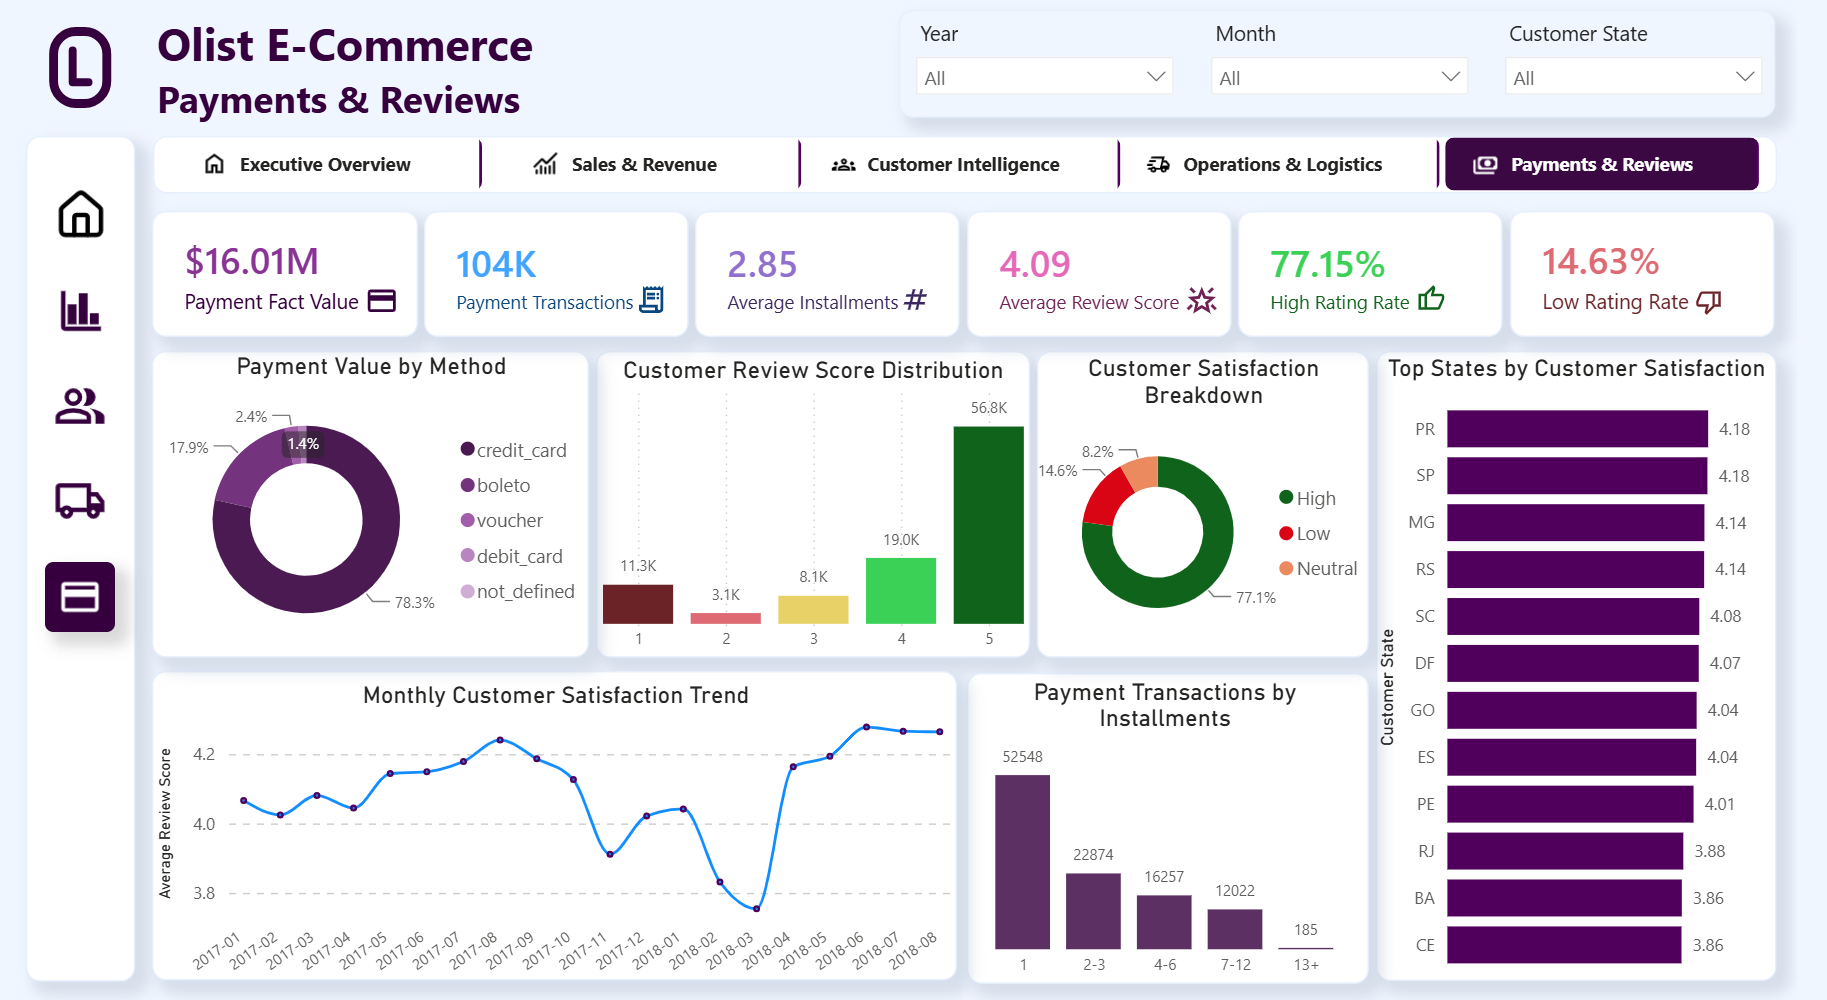

The page's visual inventory and layout, read from the dashboard file:
{"tool":"powerbi","page":{"name":"Payments & Reviews","canvas":[1280,720],"ordinal":4},"visuals":[{"type":"image","box":[15.9,5.9,76.5,85.1],"z":0,"group":"g1"},{"type":"shape","box":[15.3,96.8,77.7,603.7],"z":0},{"type":"image","box":[19.9,11.6,68.4,71.9],"z":1000,"group":"g1"},{"type":"shape","box":[421.9,250.7,310,218.9],"z":1000},{"type":"shape","box":[979.5,250.7,286.1,450],"z":2000},{"type":"shape","box":[686.9,480.7,287.3,221.9],"z":3000},{"type":"shape","box":[105.2,479.4,574.7,221.3],"z":4000},{"type":"shape","box":[737.4,250.7,237.2,218.9],"z":5000},{"type":"shape","box":[105.2,250.7,311.8,218.9],"z":6000},{"type":"shape","box":[638.3,7.3,626.1,77],"z":7000},{"type":"textbox","box":[63.6,3.7,368.1,90.5],"z":8000},{"type":"slicer","fields":{"Values":["dim_date.year"]},"box":[640.8,8.6,204.2,77],"z":9000},{"type":"slicer","fields":{"Values":["dim_date.month_name"]},"box":[851.2,8.6,204,77],"z":10000},{"type":"slicer","fields":{"Values":["dim_customer.Customer State"]},"box":[1061.4,8.6,204.2,77],"z":11000},{"type":"group","id":"g1","title":"Group 1","box":[15.9,5.9,76.5,85.1],"z":13000},{"type":"group","id":"g2","title":"Group 2","box":[105.2,150.4,1158.7,90.5],"z":14000},{"type":"actionButton","box":[29.3,128.6,50,50],"z":15000},{"type":"actionButton","box":[29.3,196.8,50,50],"z":16000},{"type":"actionButton","box":[317.4,102.3,30.2,30.2],"z":17000},{"type":"cardVisual","fields":{"Data":["_Measures.Payment Fact Value"]},"box":[105.2,150.4,189.5,90.5],"z":17000,"group":"g2"},{"type":"cardVisual","fields":{"Data":["_Measures.Payment Transactions"]},"box":[299.6,150.4,189,90],"z":18000,"group":"g2"},{"type":"actionButton","box":[28.9,265,50,50],"z":18000},{"type":"cardVisual","fields":{"Data":["_Measures.Average Installments"]},"box":[493.4,150.4,189,90.5],"z":19000,"group":"g2"},{"type":"actionButton","box":[28.9,333.2,50,50],"z":19000},{"type":"cardVisual","fields":{"Data":["_Measures.Average Review Score"]},"box":[687.2,150.4,189,90],"z":20000,"group":"g2"},{"type":"actionButton","box":[28.9,401.3,50,50],"z":20000},{"type":"cardVisual","fields":{"Data":["_Measures.High Rating Rate"]},"box":[881.1,150.4,189,90],"z":21000,"group":"g2"},{"type":"cardVisual","fields":{"Data":["_Measures.Low Rating Rate"]},"box":[1074.9,150.4,189,90],"z":22000,"group":"g2"},{"type":"clusteredColumnChart","title":"Payment Transactions by Installments","fields":{"Category":["fact_payment.payment_installment_bucket"],"Y":["_Measures.Payment Transactions"]},"box":[687.2,480.6,286.1,221.3],"z":22000},{"type":"clusteredColumnChart","title":"Customer Review Score Distribution","fields":{"Category":["fact_order.latest_review_score"],"Y":["_Measures.Reviewed Orders"]},"box":[421.9,250.7,310.6,218.9],"z":23000},{"type":"image","box":[256.8,203,24.5,24.5],"z":24000},{"type":"image","box":[450,201.8,23.2,24.5],"z":25000},{"type":"image","box":[639.5,203,22,22],"z":26000},{"type":"image","box":[1206.9,205.4,19.6,19.6],"z":27000},{"type":"image","box":[842.5,203,24.5,24.5],"z":28000},{"type":"image","box":[1007.6,203,20.8,20.8],"z":29000},{"type":"pageNavigator","box":[105.7,96.8,1160.3,40.8],"z":30000},{"type":"lineChart","title":"Monthly Customer Satisfaction Trend","fields":{"Category":["dim_date.year_month"],"Y":["_Measures.Average Review Score"]},"box":[105.2,483,577.2,217.7],"z":37000},{"type":"donutChart","title":"Payment Value by Method","fields":{"Category":["fact_payment.Payment Type"],"Y":["_Measures.Payment Fact Value"]},"box":[106.4,249.5,310.6,222.6],"z":39001},{"type":"clusteredBarChart","title":"Top States by Customer Satisfaction","fields":{"Category":["dim_customer.Customer State"],"Y":["_Measures.Average Review Score"]},"box":[979.5,250.7,284.9,451.2],"z":39002},{"type":"donutChart","title":"Customer Satisfaction Breakdown","fields":{"Category":["fact_order.latest_review_score_group"],"Y":["_Measures.Reviewed Orders"]},"box":[737.4,250.7,238.5,218.9],"z":39003},{"type":"actionButton","box":[370.5,101.5,30.6,30.6],"z":39004},{"type":"actionButton","box":[134.5,101.5,30.6,30.6],"z":39005},{"type":"actionButton","box":[583.3,102.7,30.6,29.3],"z":39006},{"type":"actionButton","box":[809.5,102.7,29.3,29.3],"z":39007},{"type":"actionButton","box":[1041.9,102.7,30.6,30.6],"z":39008}]}

Visuals, with their boxes in screenshot pixels (x1, y1, x2, y2), scaled from the page's 1280x720 canvas onto the 1827x1000 screenshot:
image: box=[23, 8, 132, 126]
shape: box=[22, 134, 133, 973]
image: box=[28, 16, 126, 116]
shape: box=[602, 348, 1045, 652]
shape: box=[1398, 348, 1806, 973]
shape: box=[980, 668, 1391, 976]
shape: box=[150, 666, 970, 973]
shape: box=[1053, 348, 1391, 652]
shape: box=[150, 348, 595, 652]
shape: box=[911, 10, 1805, 117]
textbox: box=[91, 5, 616, 131]
slicer - dim_date.year: box=[915, 12, 1206, 119]
slicer - dim_date.month_name: box=[1215, 12, 1506, 119]
slicer - dim_customer.Customer State: box=[1515, 12, 1806, 119]
"Group 1" group: box=[23, 8, 132, 126]
"Group 2" group: box=[150, 209, 1804, 335]
actionButton: box=[42, 179, 113, 248]
actionButton: box=[42, 273, 113, 343]
actionButton: box=[453, 142, 496, 184]
cardVisual - _Measures.Payment Fact Value: box=[150, 209, 421, 335]
cardVisual - _Measures.Payment Transactions: box=[428, 209, 697, 334]
actionButton: box=[41, 368, 113, 438]
cardVisual - _Measures.Average Installments: box=[704, 209, 974, 335]
actionButton: box=[41, 463, 113, 532]
cardVisual - _Measures.Average Review Score: box=[981, 209, 1251, 334]
actionButton: box=[41, 557, 113, 627]
cardVisual - _Measures.High Rating Rate: box=[1258, 209, 1527, 334]
cardVisual - _Measures.Low Rating Rate: box=[1534, 209, 1804, 334]
"Payment Transactions by Installments" clusteredColumnChart: box=[981, 668, 1389, 975]
"Customer Review Score Distribution" clusteredColumnChart: box=[602, 348, 1046, 652]
image: box=[367, 282, 402, 316]
image: box=[642, 280, 675, 314]
image: box=[913, 282, 944, 312]
image: box=[1723, 285, 1751, 312]
image: box=[1203, 282, 1238, 316]
image: box=[1438, 282, 1468, 311]
pageNavigator: box=[151, 134, 1807, 191]
"Monthly Customer Satisfaction Trend" lineChart: box=[150, 671, 974, 973]
"Payment Value by Method" donutChart: box=[152, 347, 595, 656]
"Top States by Customer Satisfaction" clusteredBarChart: box=[1398, 348, 1805, 975]
"Customer Satisfaction Breakdown" donutChart: box=[1053, 348, 1393, 652]
actionButton: box=[529, 141, 573, 183]
actionButton: box=[192, 141, 236, 183]
actionButton: box=[833, 143, 876, 183]
actionButton: box=[1155, 143, 1197, 183]
actionButton: box=[1487, 143, 1531, 185]
